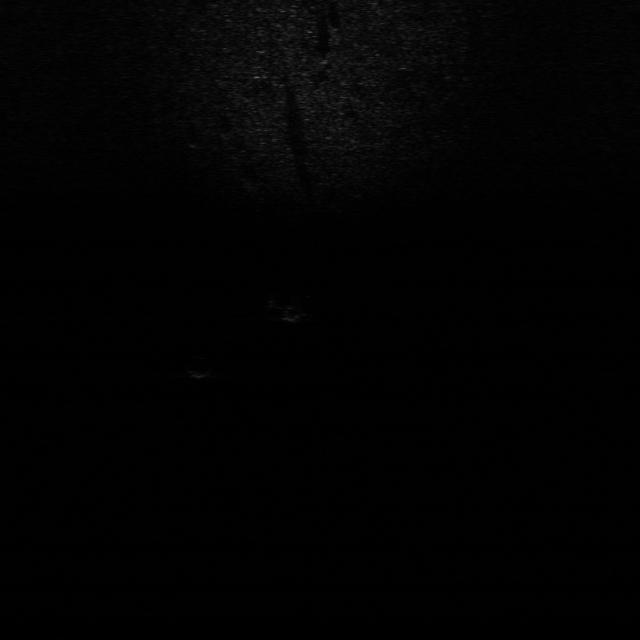ball: (183, 357, 219, 380)
human body: (262, 290, 316, 326)
